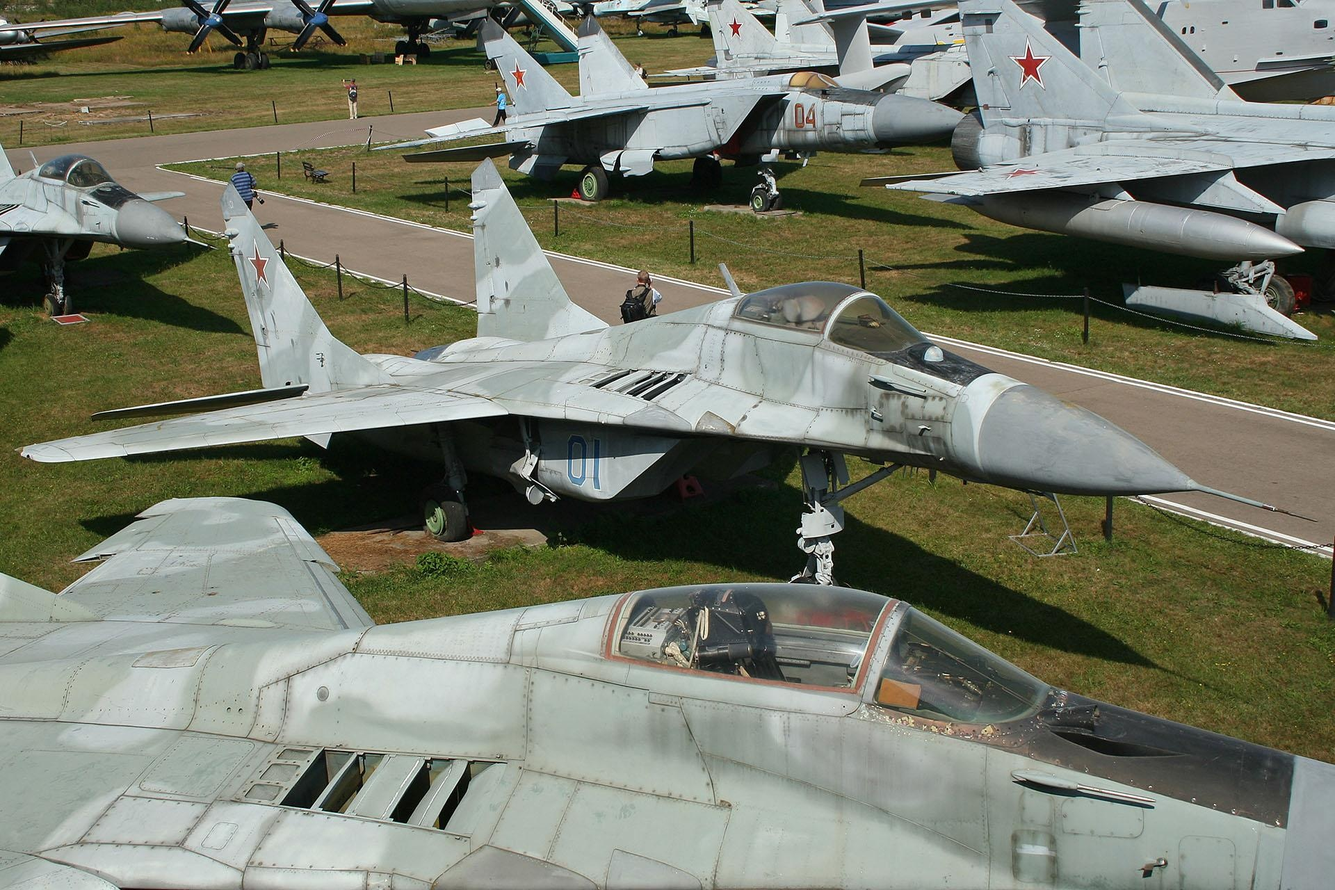aircraft: (0, 154, 1331, 572), (4, 492, 1329, 878), (864, 2, 1334, 329), (467, 0, 969, 186), (0, 142, 207, 316)
